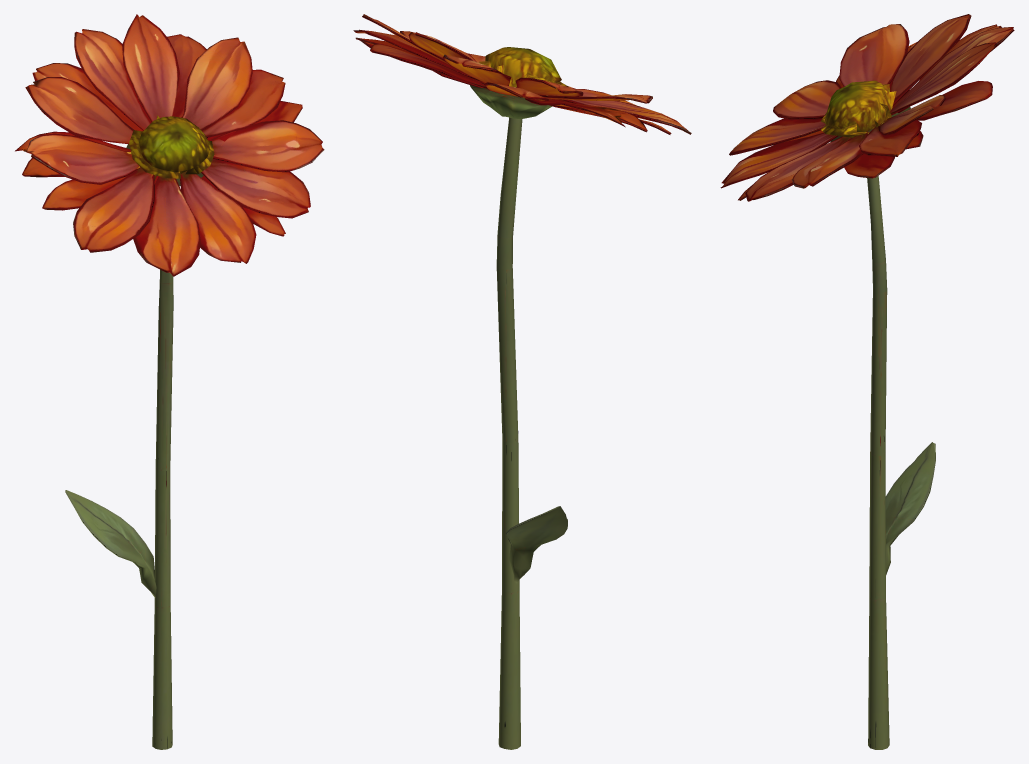
File: obj_flower_red.glb
The picture shows the model from 3 angles, left to right: view 1: azimuth 30°, elevation 25°; view 2: azimuth 150°, elevation 25°; view 3: azimuth 270°, elevation 25°; orthographic projection. The views are drawn at different scales.
Visible parts, largest first — view 1: geometry_0; view 2: geometry_0; view 3: geometry_0.
Part boxes in pixels (x1,y1,x2,y2): geometry_0: [15, 14, 324, 749]; geometry_0: [353, 14, 691, 749]; geometry_0: [720, 14, 1014, 749].
Bounding box in the file's own units: 0.3965 × 0.9521 × 0.353.
Materials: 1 (1 with a texture image).
